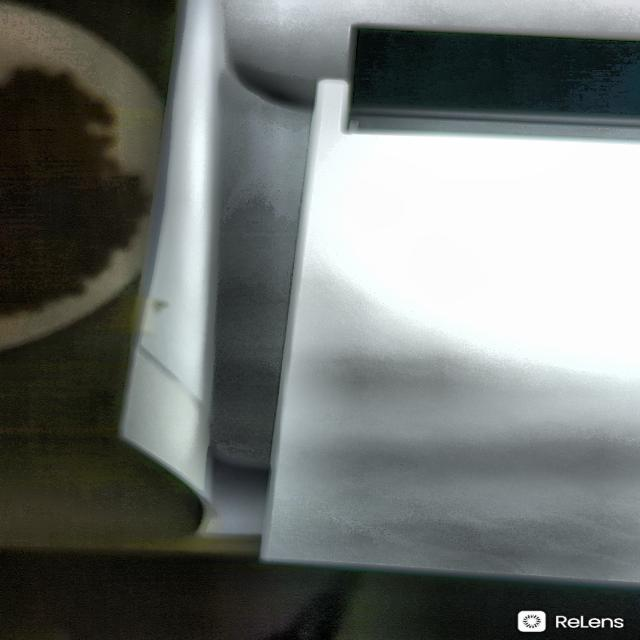Empty: (311, 168, 640, 479)
